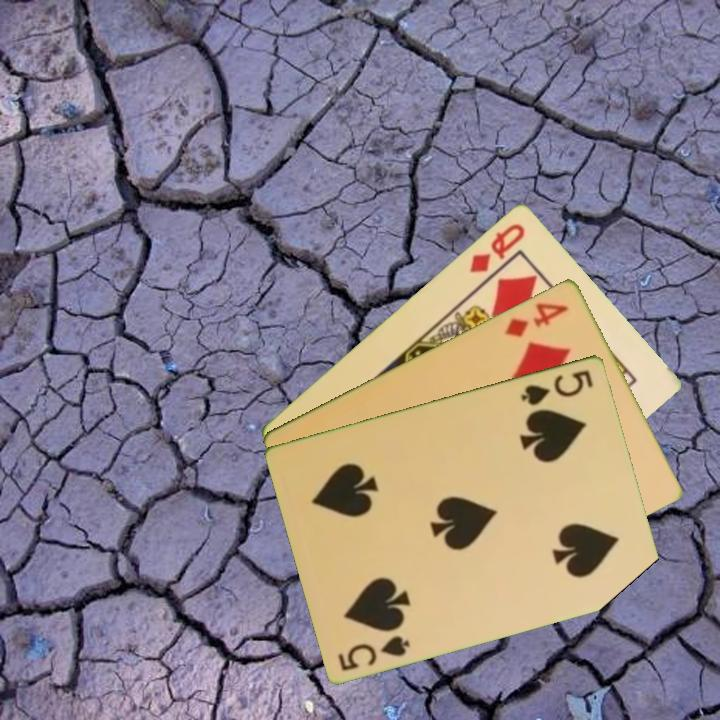4d: (501, 298, 572, 340)
5s: (517, 366, 597, 408), (334, 631, 413, 673)
Qd: (465, 219, 528, 276)
